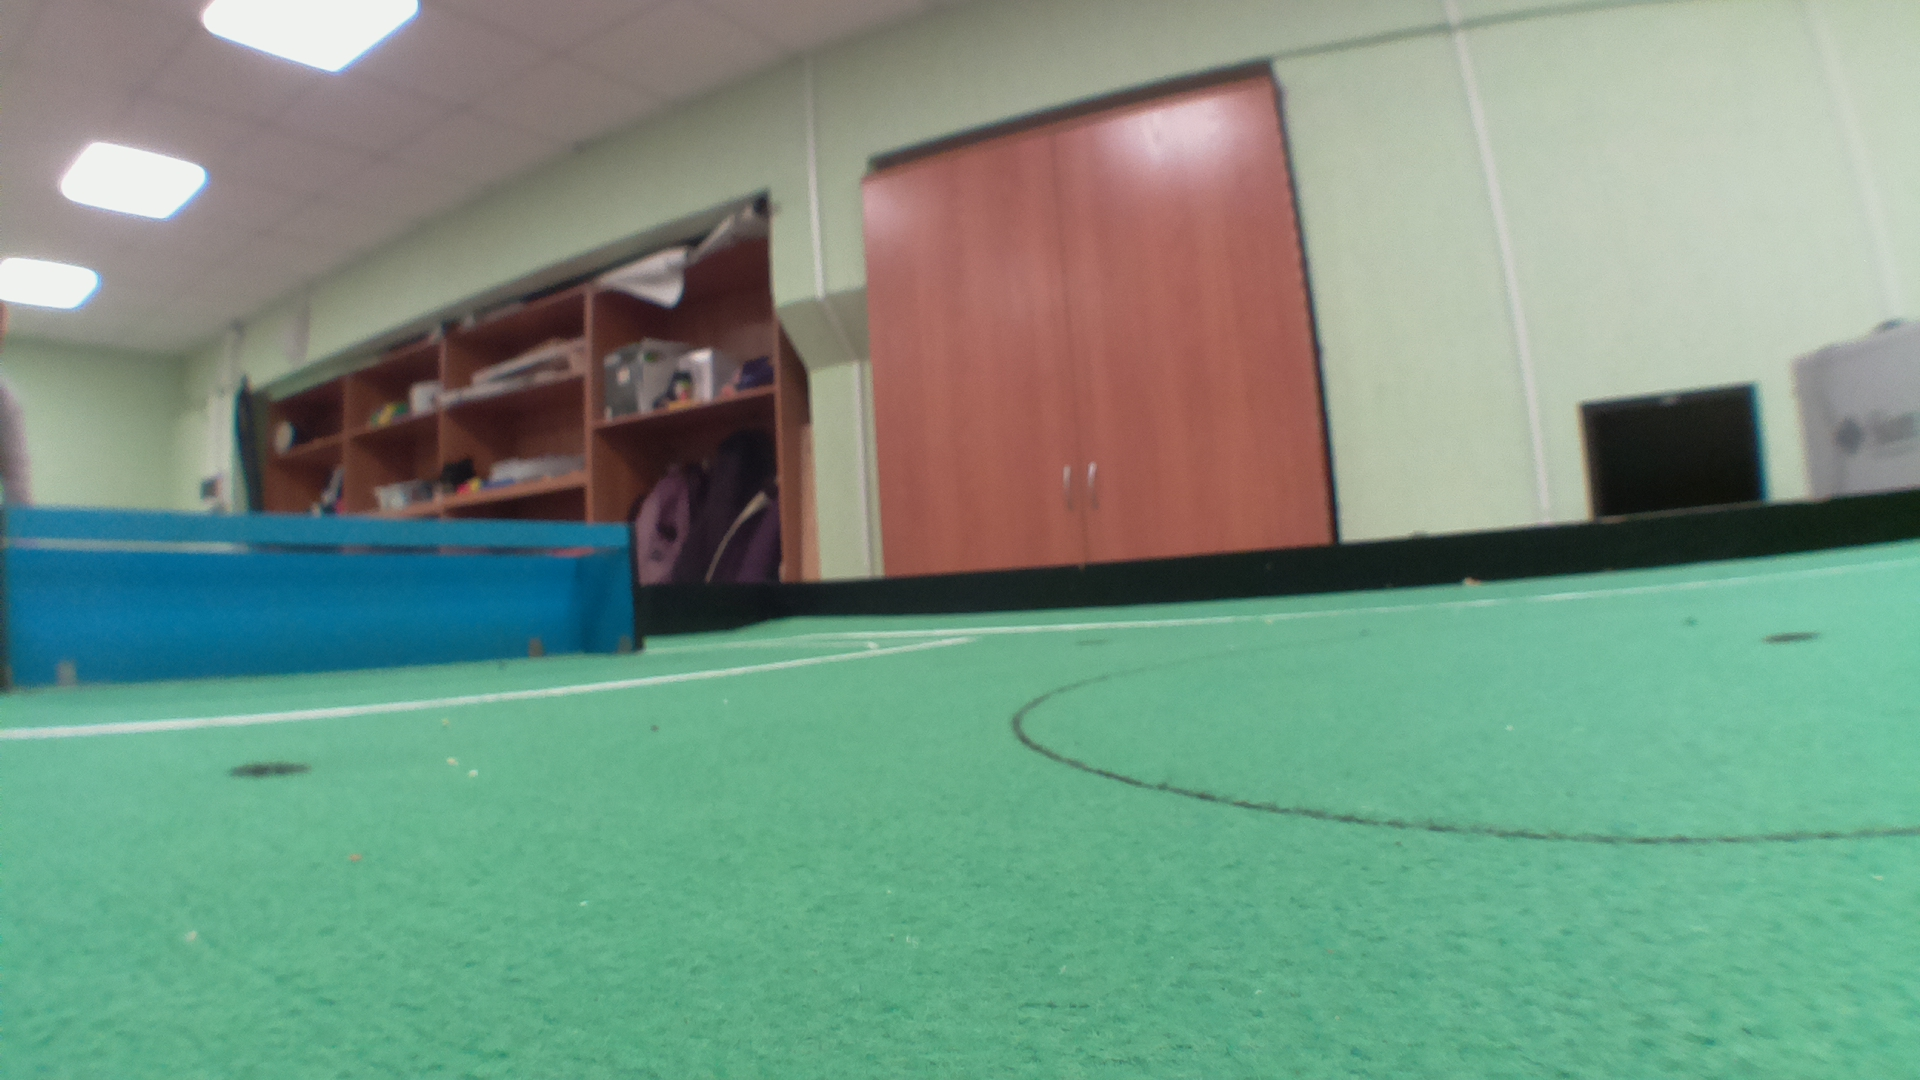BlueGoal: (1, 529, 628, 698)
